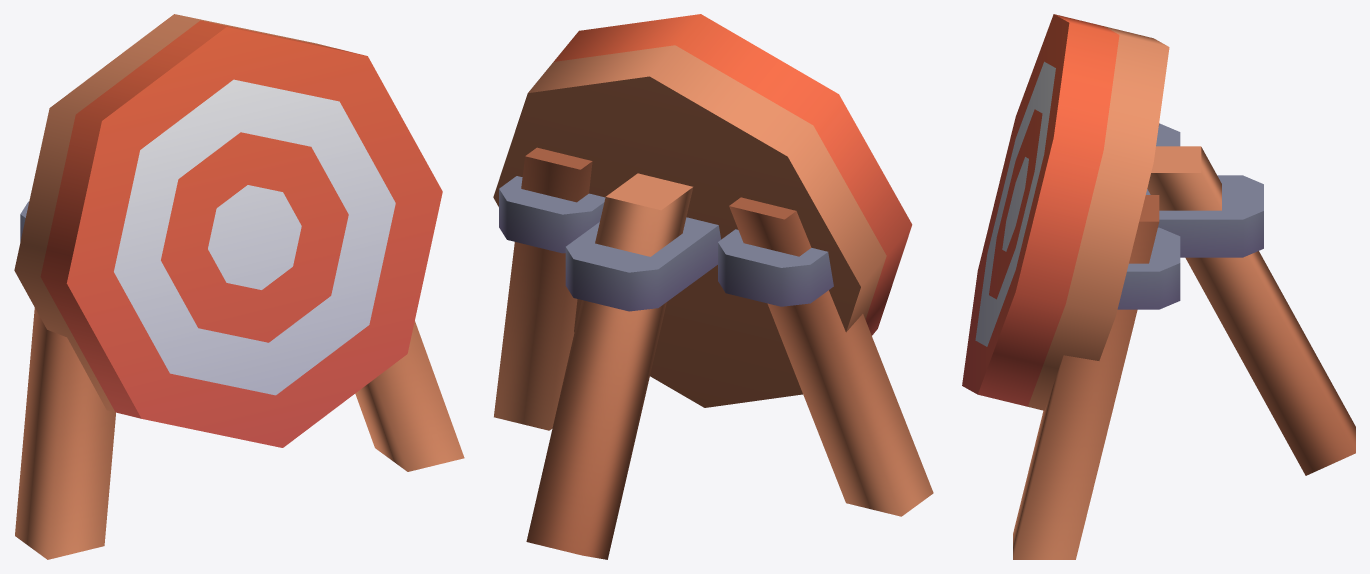
Rendered from target.glb.
The picture shows the model from 3 angles, left to right: view 1: azimuth 30°, elevation 25°; view 2: azimuth 150°, elevation 25°; view 3: azimuth 270°, elevation 25°; orthographic projection. The views are drawn at different scales.
Visible parts, largest first — view 1: target; view 2: target; view 3: target.
Boxes of the visible parts, x1=… form: target: x1=14, y1=14, x2=464, y2=559; target: x1=493, y1=14, x2=933, y2=559; target: x1=962, y1=14, x2=1355, y2=559.
Bounding box in the file's own units: 1.33 × 1.4 × 1.14.
1 material, 1 textured.
